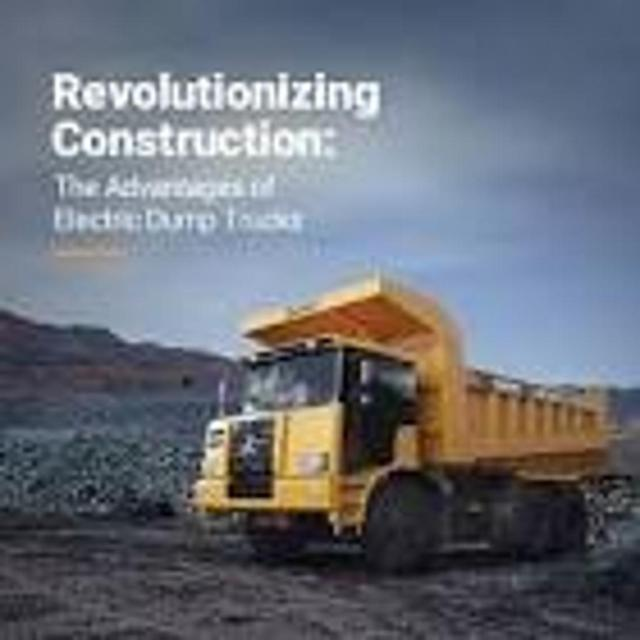dump_truck: (186, 272, 613, 574)
